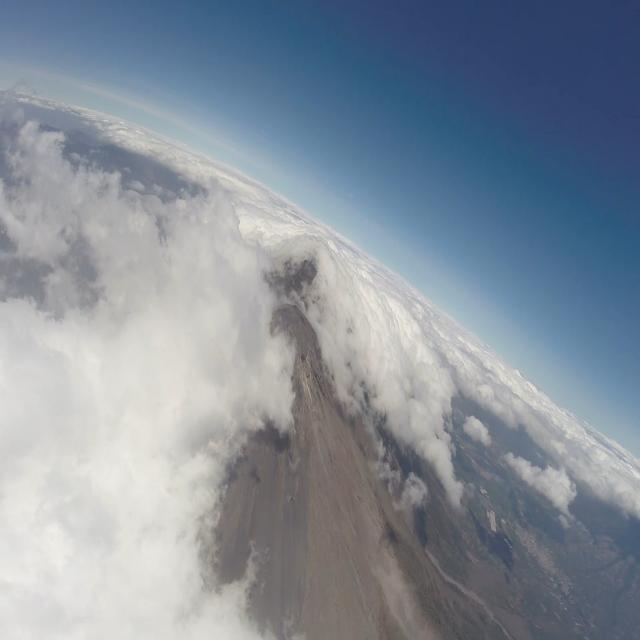Summit: (274, 297, 326, 396)
